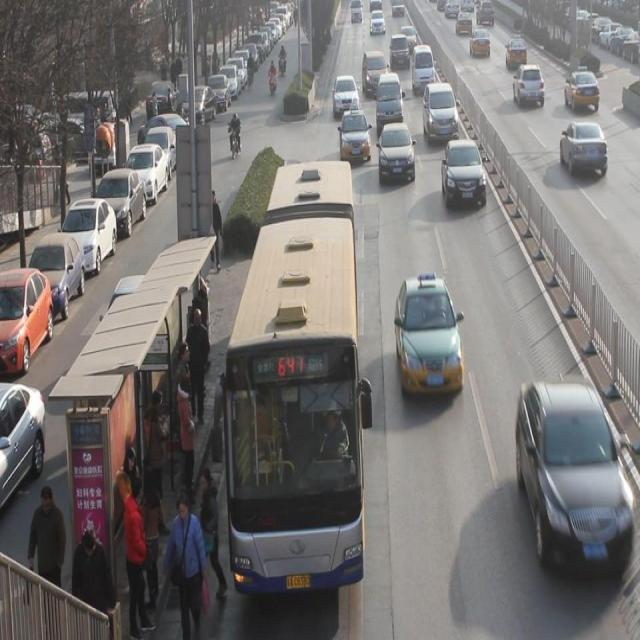car: (517, 381, 627, 577), (395, 274, 464, 398), (442, 138, 488, 208), (560, 122, 608, 177), (379, 124, 415, 184), (422, 84, 458, 144), (340, 110, 371, 161), (565, 68, 600, 113), (513, 64, 545, 108), (332, 75, 359, 118), (362, 52, 387, 96), (505, 35, 528, 70), (390, 36, 410, 72), (469, 27, 490, 58), (402, 27, 418, 52)
truck: (376, 79, 404, 130), (412, 44, 435, 93)
van: (225, 158, 362, 602)
